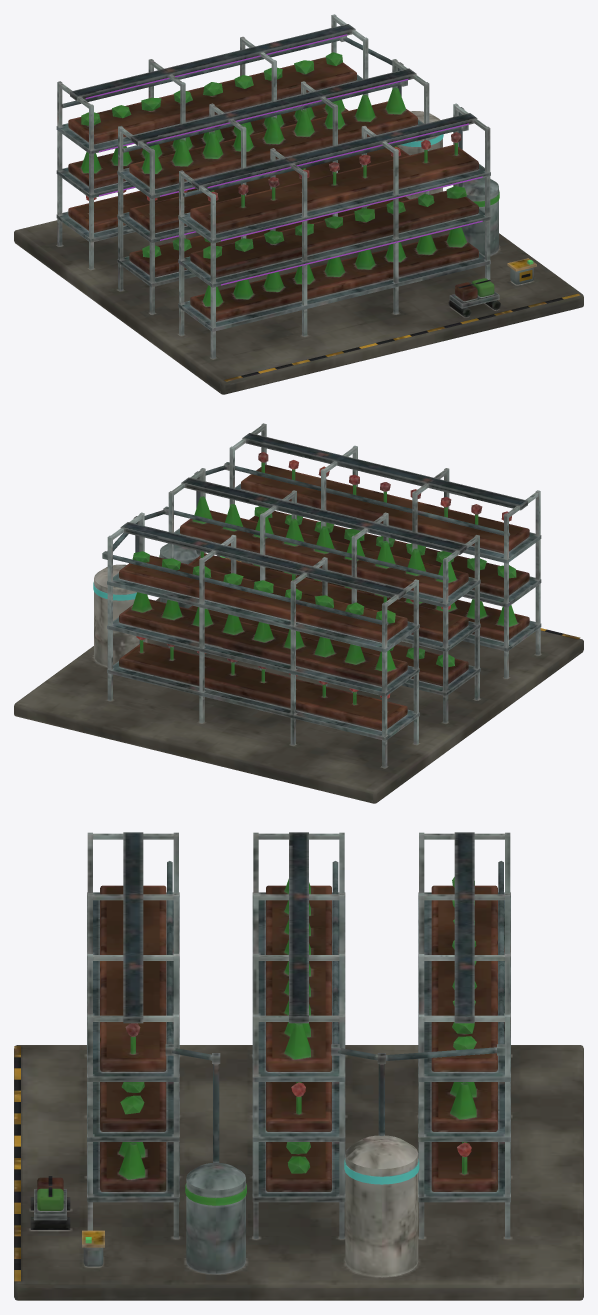
File: greenhouse_farm.glb
3 views of the same model, one above another, from view 1: azimuth 30°, elevation 25°; view 2: azimuth 150°, elevation 25°; view 3: azimuth 270°, elevation 25° (orthographic). The views are drawn at different scales.
Parts seen in each view (by area): view 1: te_greenhouse_farm; view 2: te_greenhouse_farm; view 3: te_greenhouse_farm.
Boxes of the visible parts, box(x1,y1,x2,y2) form: te_greenhouse_farm: box(14, 14, 583, 394); te_greenhouse_farm: box(14, 423, 583, 803); te_greenhouse_farm: box(14, 832, 583, 1300).
Bounding box in the file's own units: 1.72 × 0.8 × 1.72.
Materials: 1 (1 with a texture image).
